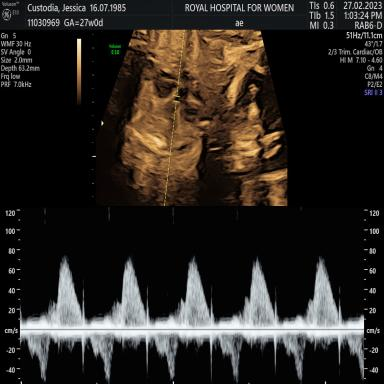Ultrasound-Waves: (23, 210, 363, 381)
